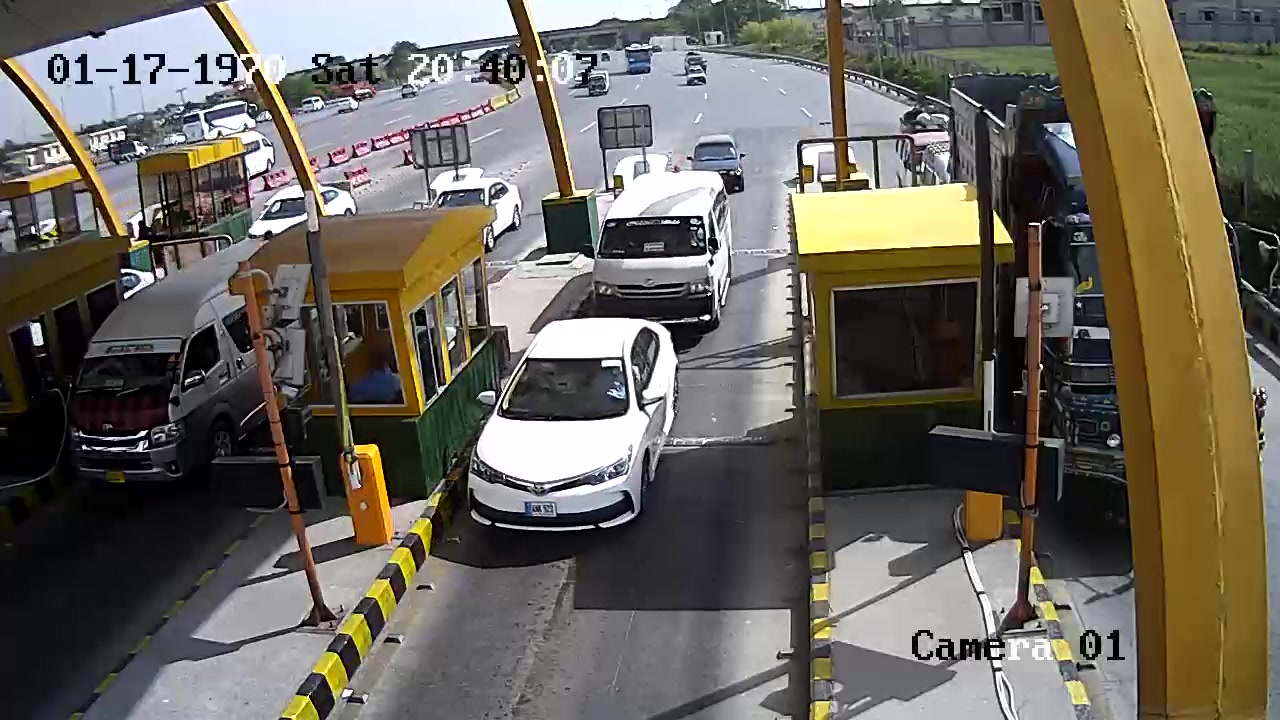F1: (448, 309, 687, 537)
F2: (570, 165, 751, 341)
